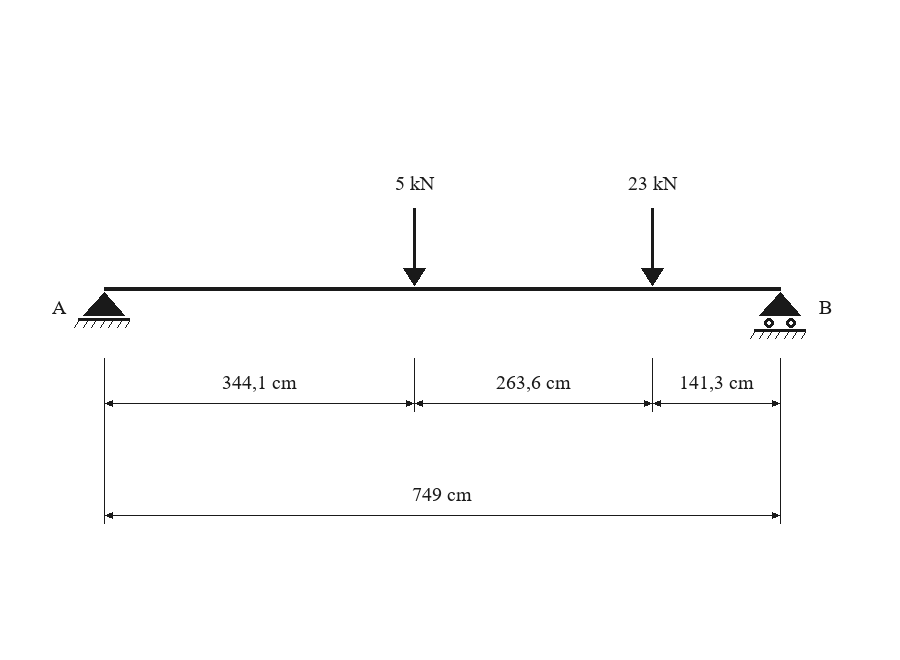pin_support: (74, 292, 130, 328)
point_load: (403, 208, 426, 286), (641, 208, 664, 286)
roller_support: (750, 292, 806, 339)
